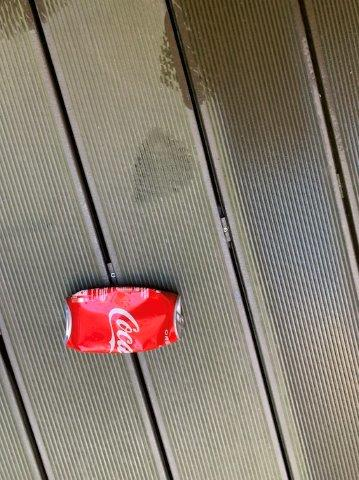kaleng: (63, 288, 183, 352)
